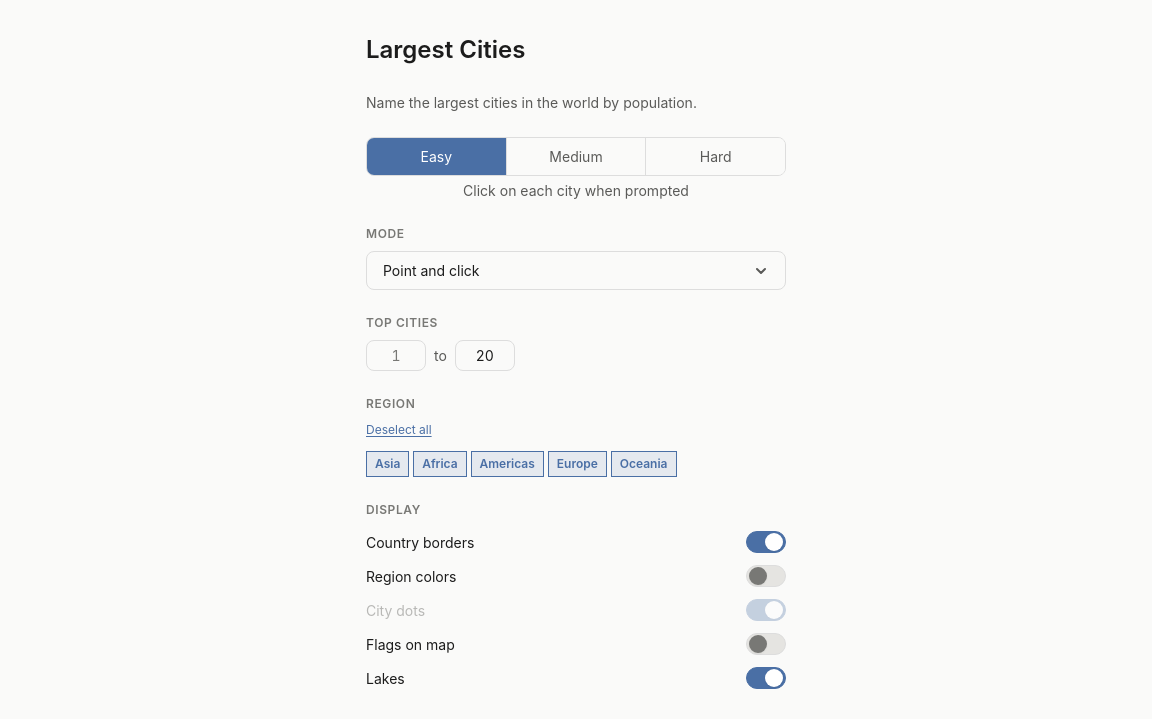
No answers leaked in active quiz DOM › Largest Cities — Name in any order
The width and height of the screenshot is (1152, 719).
Note: Wait for mode selector to appear (panel level loads async from localStorage)
Select "Name in any order" in the dropdown labelled "Mode". click: (576, 270)
box: left=366, top=251, right=786, bottom=290
(page scrolled)
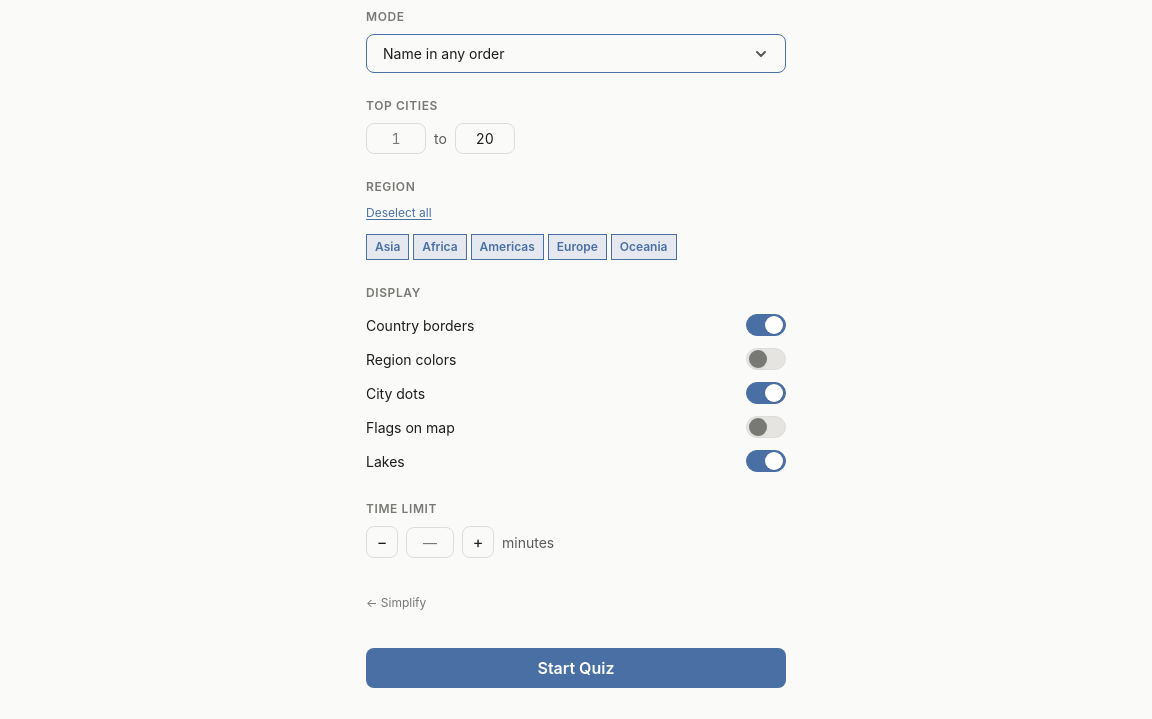
Note: Start the quiz
Click the button "Start Quiz". click: (576, 668)
box: left=366, top=648, right=786, bottom=688
(page scrolled)
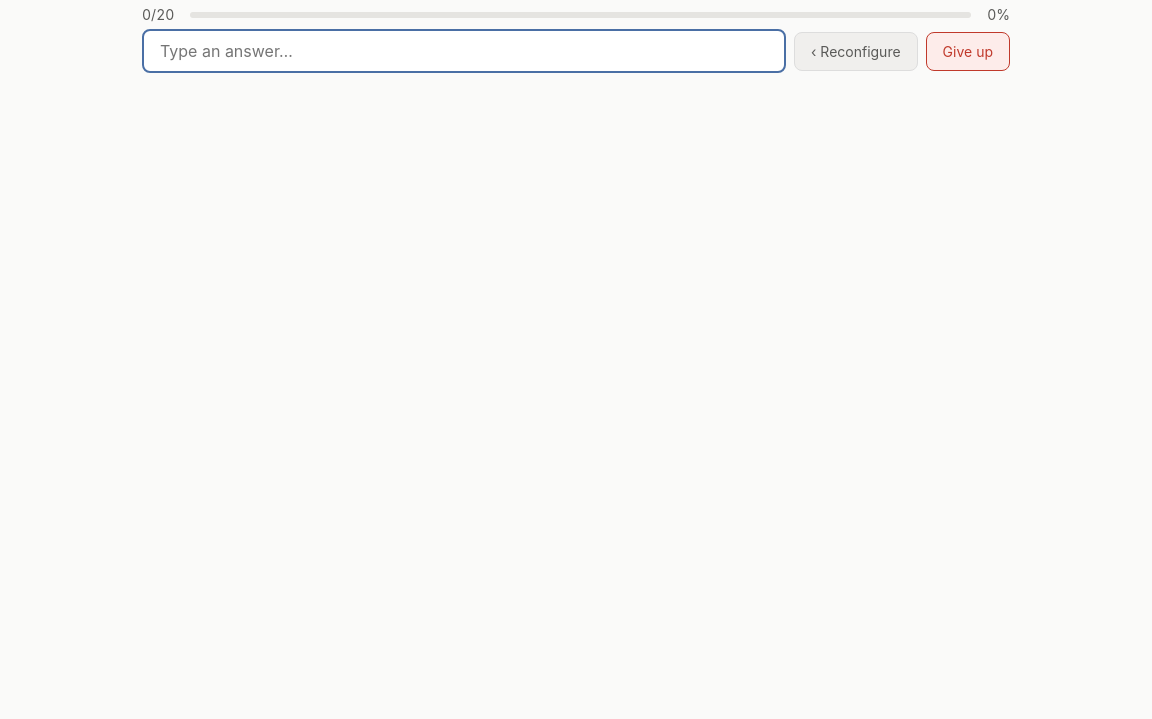
Check: the button "‹ Reconfigure" is shown, box left=794, top=32, right=918, bottom=70
